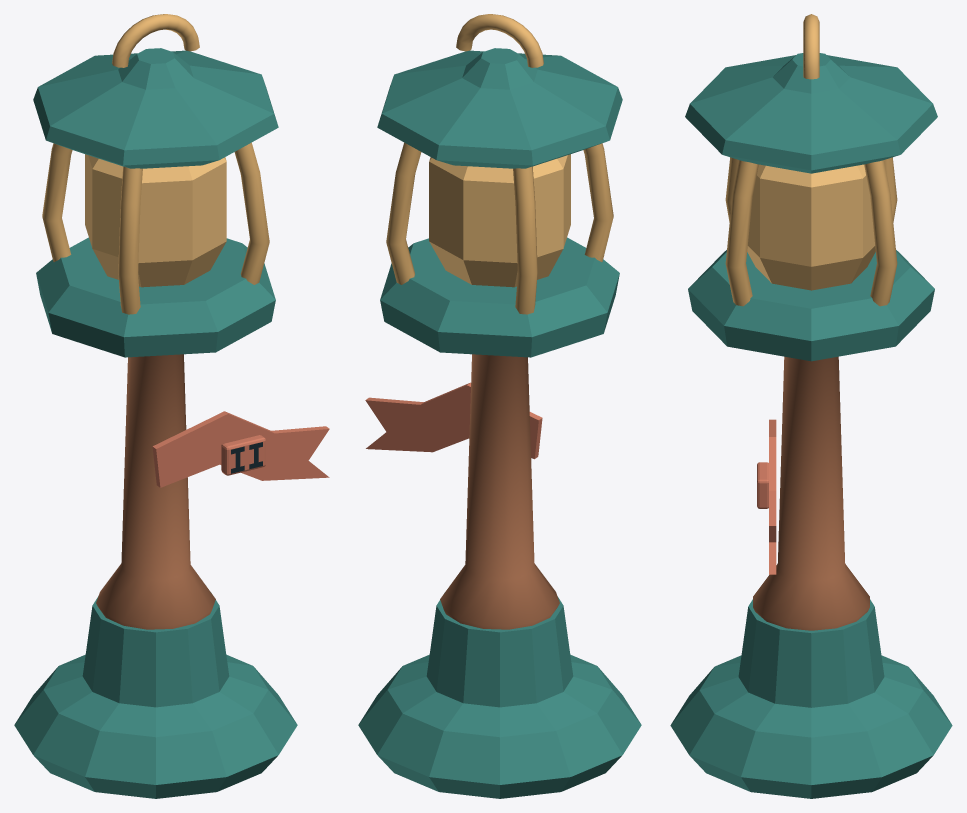
The picture shows the model from 3 angles, left to right: view 1: azimuth 30°, elevation 25°; view 2: azimuth 150°, elevation 25°; view 3: azimuth 270°, elevation 25°; orthographic projection.
Parts seen in each view (by area): view 1: PR050 enamel and hardware; view 2: PR050 enamel and hardware; view 3: PR050 enamel and hardware.
Boxes of the visible parts, box(x1,y1,x2,y2) form: PR050 enamel and hardware: box(14, 14, 329, 798); PR050 enamel and hardware: box(358, 14, 641, 798); PR050 enamel and hardware: box(670, 14, 952, 798).
Bounding box in the file's own units: 0.6492 × 1.65 × 0.5793.
